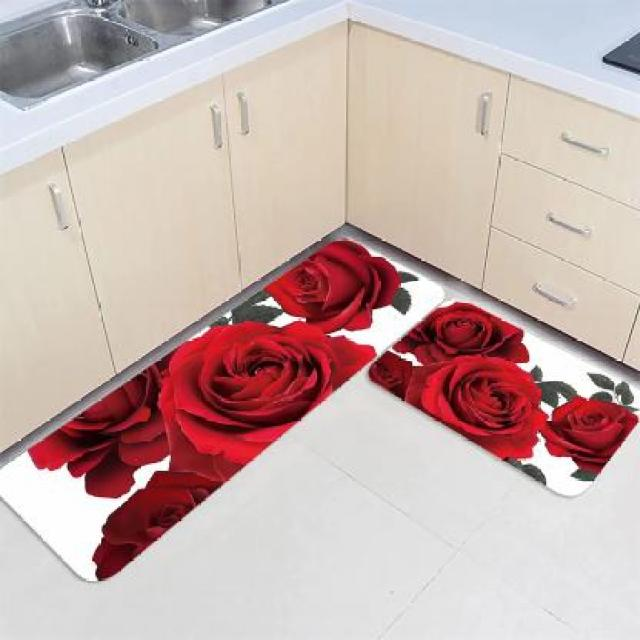Floor: (0, 364, 640, 640)
